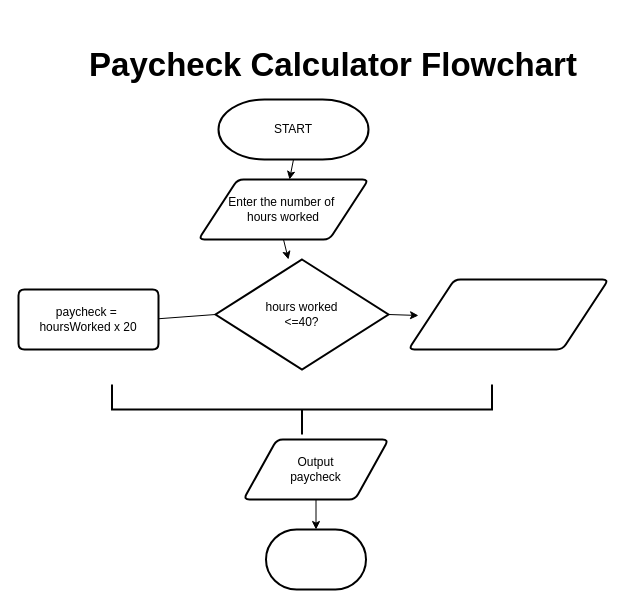
Some shapes in this 626 by 607 pixel diagram are drawn without their labels. The centre of each missing label's shape, as x and y in pixels:
END: the point at 315,559
paycheck = (40 x 20) = ((hoursWorked - 40) x 30): the point at 508,314
